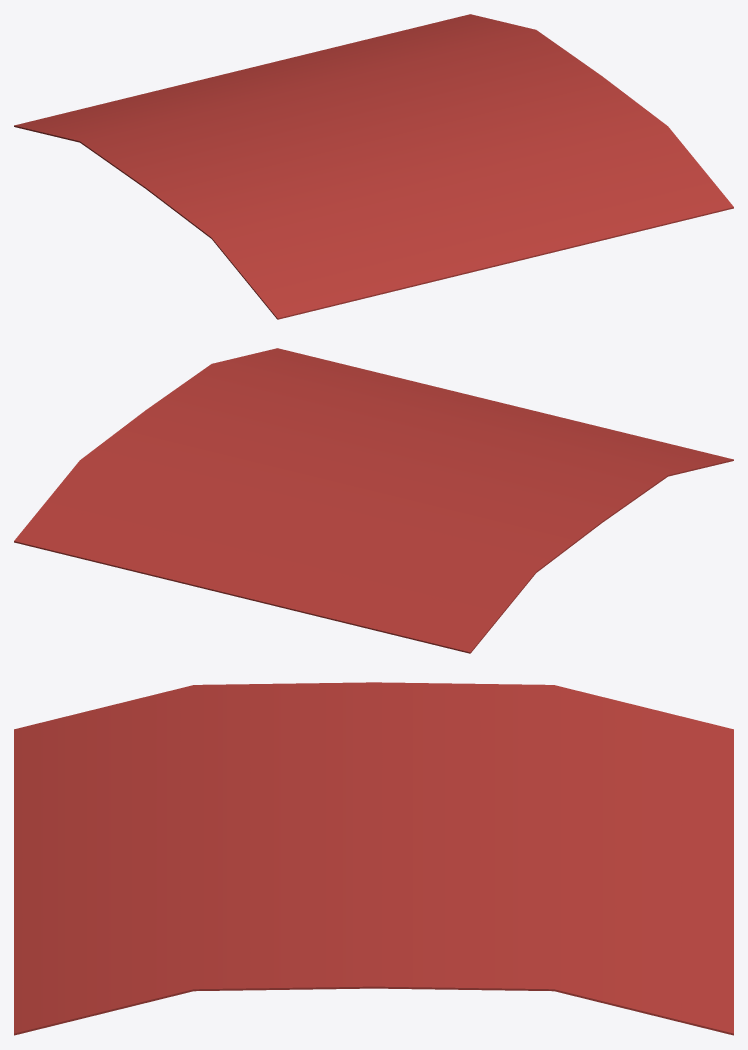
Rendered from valanced_tip_lod2.glb.
3 renders of one model, top to bottom at view 1: azimuth 30°, elevation 25°; view 2: azimuth 150°, elevation 25°; view 3: azimuth 270°, elevation 25°, orthographic. The views are drawn at different scales.
Visible parts, largest first — view 1: valanced_tip_lod2; view 2: valanced_tip_lod2; view 3: valanced_tip_lod2.
Boxes of the visible parts, <box> form: valanced_tip_lod2: <box>14,14,733,319</box>; valanced_tip_lod2: <box>14,348,733,653</box>; valanced_tip_lod2: <box>14,682,733,1035</box>.
Size of the model in its own units: 1 by 0.075 by 1.
